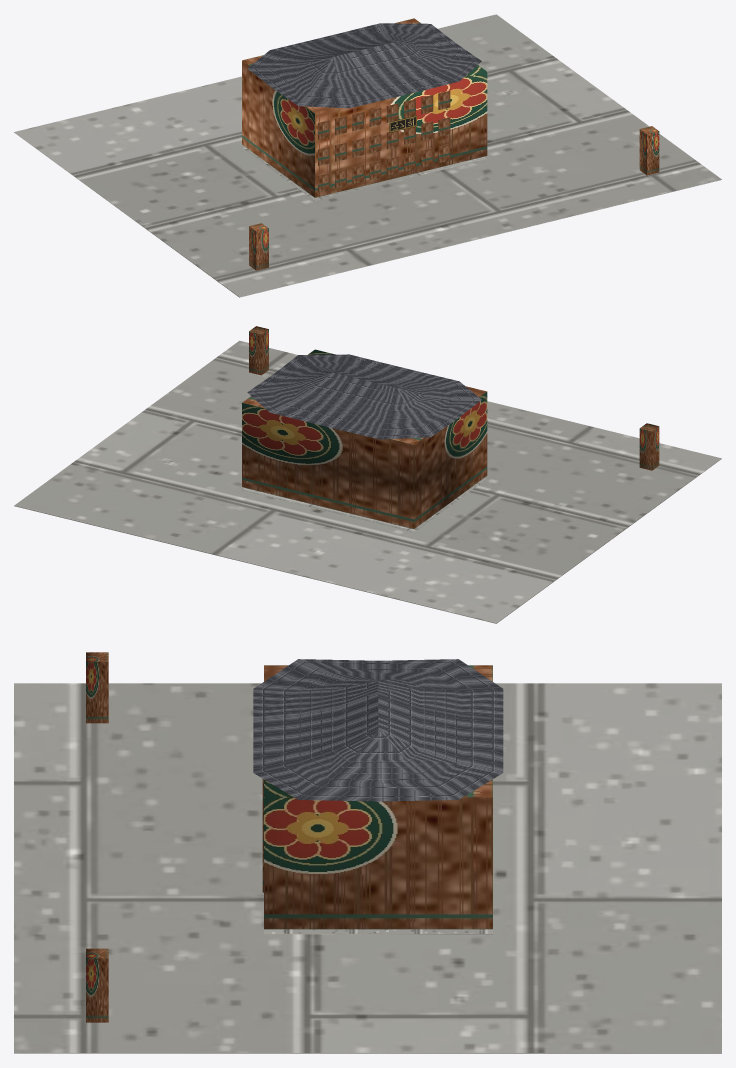
3 renders of one model, top to bottom at view 1: azimuth 30°, elevation 25°; view 2: azimuth 150°, elevation 25°; view 3: azimuth 270°, elevation 25°, orthographic. The views are drawn at different scales.
Visible parts, largest first — view 1: 11680_01_06252_042_01_L2__base, 11680_01_06252_042_02_L2__body, 11680_01_06252_042_03_L2__roof, 11680_01_06252_042_05_L2__openings, 11680_01_06252_042_06_L2__green; view 2: 11680_01_06252_042_01_L2__base, 11680_01_06252_042_02_L2__body, 11680_01_06252_042_03_L2__roof, 11680_01_06252_042_06_L2__green; view 3: 11680_01_06252_042_01_L2__base, 11680_01_06252_042_03_L2__roof, 11680_01_06252_042_02_L2__body, 11680_01_06252_042_06_L2__green.
Boxes of the visible parts, left/top/right/bottom form: 11680_01_06252_042_01_L2__base: left=14, top=14, right=721, bottom=297; 11680_01_06252_042_02_L2__body: left=242, top=18, right=487, bottom=197; 11680_01_06252_042_03_L2__roof: left=247, top=23, right=481, bottom=108; 11680_01_06252_042_05_L2__openings: left=318, top=90, right=450, bottom=192; 11680_01_06252_042_06_L2__green: left=249, top=126, right=659, bottom=270; 11680_01_06252_042_01_L2__base: left=14, top=340, right=721, bottom=623; 11680_01_06252_042_02_L2__body: left=242, top=349, right=487, bottom=528; 11680_01_06252_042_03_L2__roof: left=247, top=354, right=481, bottom=439; 11680_01_06252_042_06_L2__green: left=249, top=326, right=659, bottom=470; 11680_01_06252_042_01_L2__base: left=14, top=683, right=721, bottom=1053; 11680_01_06252_042_03_L2__roof: left=253, top=659, right=503, bottom=801; 11680_01_06252_042_02_L2__body: left=264, top=665, right=492, bottom=929; 11680_01_06252_042_06_L2__green: left=86, top=652, right=108, bottom=1022.
Bounding box in the file's own units: 84 × 17.4 × 68.
Materials: 5 (5 with a texture image).
